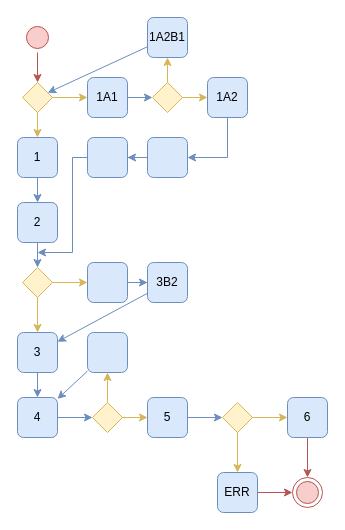
Some shapes in this 345 by 530 pixel diagram are drawn without their labels. The box of each missing label's shape, as (x1, y1, x2, y2) in pixels:
1A3: (146, 136, 188, 178)
1A4: (86, 136, 128, 178)
3B1: (86, 262, 128, 302)
5A1: (86, 332, 128, 372)
